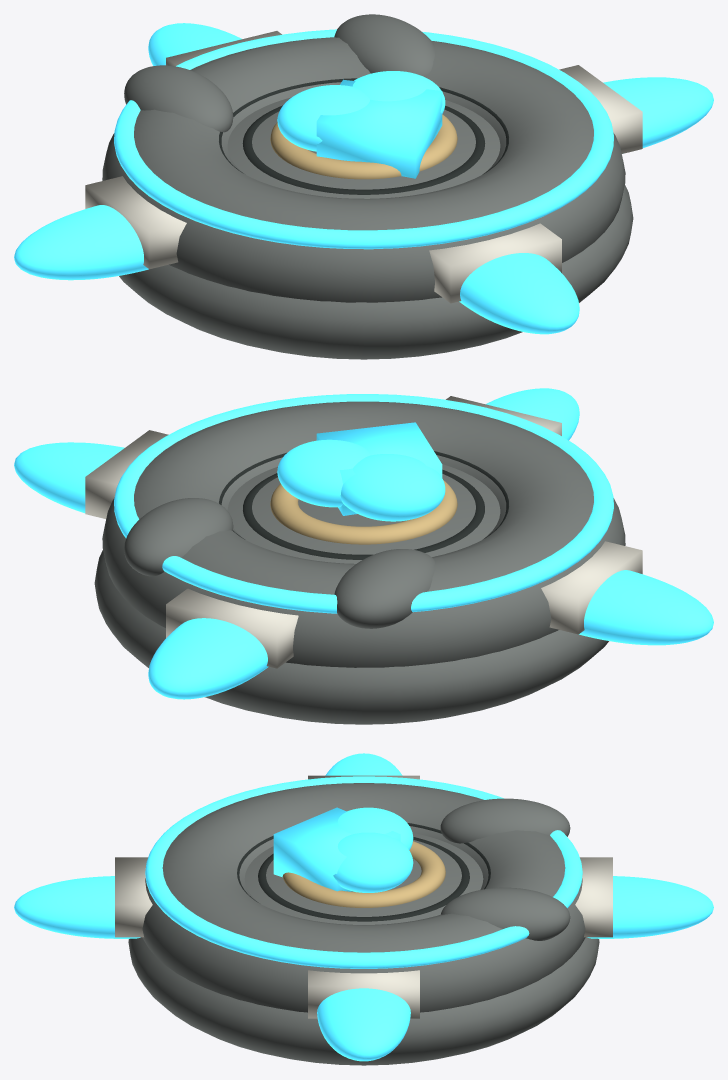
The model's file is greyshade-cat-orbit-top-r1.glb.
3 views of the same model, one above another, from view 1: azimuth 30°, elevation 25°; view 2: azimuth 150°, elevation 25°; view 3: azimuth 270°, elevation 25° (orthographic). The views are drawn at different scales.
Parts seen in each view (by area): view 1: GreyshadeBase_OuterShell, GreyshadeBase_LowerClayMass, GreyshadeResonance_ResonanceHalo, GreyshadeBase_HeartPoint, GreyshadeResonance_ResonanceFin_03, GreyshadeResonance_ResonanceFin_04, GreyshadeBase_EarFinLeft, GreyshadeResonance_ResonanceFin_01, GreyshadeBase_EarFinRight, GreyshadeBase_CardinalGuard_04, GreyshadeBase_CardinalGuard_03, GreyshadeBase_GoldBezel (+7 smaller); view 2: GreyshadeBase_OuterShell, GreyshadeBase_LowerClayMass, GreyshadeResonance_ResonanceHalo, GreyshadeResonance_ResonanceFin_03, GreyshadeResonance_ResonanceFin_02, GreyshadeBase_EarFinLeft, GreyshadeBase_HeartLeft, GreyshadeBase_EarFinRight, GreyshadeResonance_ResonanceFin_01, GreyshadeBase_GoldBezel, GreyshadeBase_CardinalGuard_02, GreyshadeBase_HeartRight (+7 smaller); view 3: GreyshadeBase_OuterShell, GreyshadeBase_LowerClayMass, GreyshadeResonance_ResonanceHalo, GreyshadeResonance_ResonanceFin_01, GreyshadeResonance_ResonanceFin_02, GreyshadeResonance_ResonanceFin_04, GreyshadeBase_HeartPoint, GreyshadeBase_EarFinRight, GreyshadeBase_EarFinLeft, GreyshadeBase_HeartRight, GreyshadeBase_GoldBezel, GreyshadeBase_CardinalGuard_01 (+6 smaller).
Part boxes in pixels (bbox=[...]): GreyshadeBase_OuterShell: bbox=[102, 37, 625, 302]; GreyshadeBase_LowerClayMass: bbox=[119, 97, 633, 359]; GreyshadeResonance_ResonanceHalo: bbox=[114, 29, 613, 249]; GreyshadeBase_HeartPoint: bbox=[316, 79, 442, 178]; GreyshadeResonance_ResonanceFin_03: bbox=[14, 205, 148, 280]; GreyshadeResonance_ResonanceFin_04: bbox=[459, 253, 579, 334]; GreyshadeBase_EarFinLeft: bbox=[124, 65, 233, 132]; GreyshadeResonance_ResonanceFin_01: bbox=[603, 77, 713, 147]; GreyshadeBase_EarFinRight: bbox=[334, 14, 434, 77]; GreyshadeBase_CardinalGuard_04: bbox=[429, 223, 561, 303]; GreyshadeBase_CardinalGuard_03: bbox=[85, 176, 186, 269]; GreyshadeBase_GoldBezel: bbox=[270, 114, 457, 179]; GreyshadeBase_OuterShell: bbox=[102, 401, 625, 667]; GreyshadeBase_LowerClayMass: bbox=[94, 464, 608, 724]; GreyshadeResonance_ResonanceHalo: bbox=[114, 394, 613, 613]; GreyshadeResonance_ResonanceFin_03: bbox=[579, 570, 713, 645]; GreyshadeResonance_ResonanceFin_02: bbox=[148, 618, 268, 699]; GreyshadeBase_EarFinLeft: bbox=[334, 549, 434, 628]; GreyshadeBase_HeartLeft: bbox=[340, 454, 445, 521]; GreyshadeBase_EarFinRight: bbox=[124, 498, 233, 576]; GreyshadeResonance_ResonanceFin_01: bbox=[14, 442, 124, 513]; GreyshadeBase_GoldBezel: bbox=[270, 480, 457, 544]; GreyshadeBase_CardinalGuard_02: bbox=[166, 588, 298, 668]; GreyshadeBase_HeartRight: bbox=[277, 439, 369, 507]; GreyshadeBase_OuterShell: bbox=[142, 783, 585, 1012]; GreyshadeBase_LowerClayMass: bbox=[128, 833, 599, 1065]; GreyshadeResonance_ResonanceHalo: bbox=[145, 776, 582, 968]; GreyshadeResonance_ResonanceFin_01: bbox=[317, 988, 410, 1061]; GreyshadeResonance_ResonanceFin_02: bbox=[587, 876, 713, 938]; GreyshadeResonance_ResonanceFin_04: bbox=[14, 876, 140, 938]; GreyshadeBase_HeartPoint: bbox=[273, 807, 400, 891]; GreyshadeBase_EarFinRight: bbox=[441, 887, 570, 940]; GreyshadeBase_EarFinLeft: bbox=[440, 798, 570, 843]; GreyshadeBase_HeartRight: bbox=[333, 832, 413, 892]; GreyshadeBase_GoldBezel: bbox=[282, 841, 445, 907]; GreyshadeBase_CardinalGuard_01: bbox=[308, 970, 419, 1018].
Bounding box in the file's own units: 3.12 × 1.04 × 3.12.
